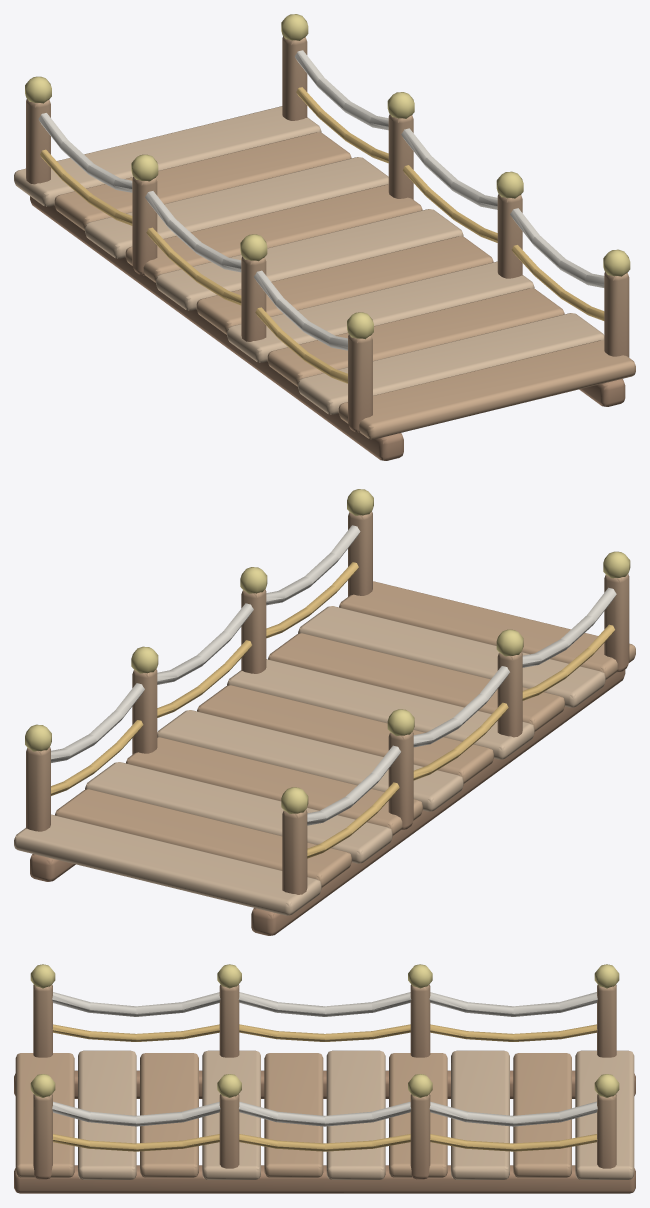
The model's file is bridge.glb.
The picture shows the model from 3 angles, top to bottom: view 1: azimuth 30°, elevation 25°; view 2: azimuth 150°, elevation 25°; view 3: azimuth 270°, elevation 25°; orthographic projection. The views are drawn at different scales.
Parts seen in each view (by area): view 1: Body; view 2: Body; view 3: Body.
Boxes of the visible parts, <box> form: Body: <box>14,14,635,460</box>; Body: <box>14,489,635,935</box>; Body: <box>14,964,635,1193</box>.
Size of the model in its own units: 13.68 by 6.57 by 30.
